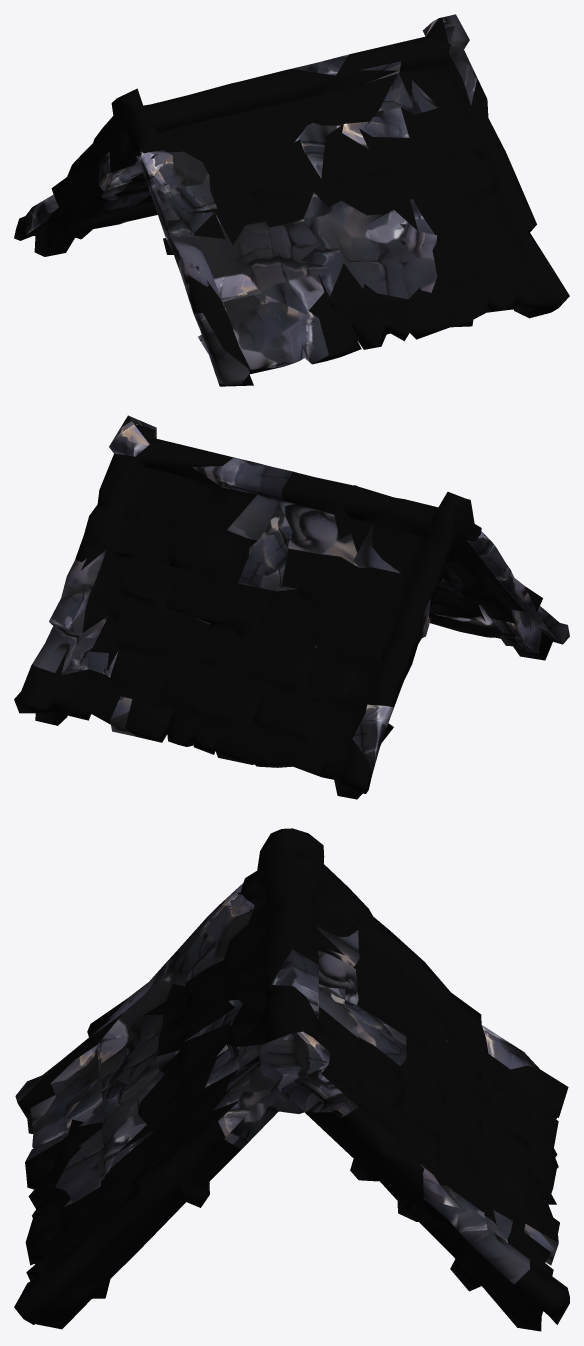
The model's file is RIP0 (2).obj.
3 renders of one model, top to bottom at view 1: azimuth 30°, elevation 25°; view 2: azimuth 150°, elevation 25°; view 3: azimuth 270°, elevation 25°, orthographic. The views are drawn at different scales.
Parts seen in each view (by area): view 1: RIP0; view 2: RIP0; view 3: RIP0.
Part boxes in pixels (box(x1,y1,x2,y2)): RIP0: box(14, 14, 569, 386); RIP0: box(14, 415, 569, 799); RIP0: box(14, 828, 569, 1331).
Size of the model in its own units: 0.9383 by 0.6036 by 1.
